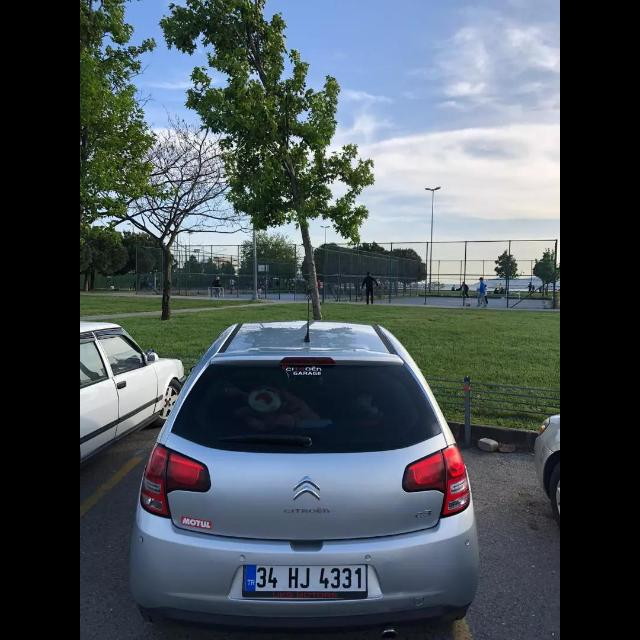Plaka: (244, 564, 366, 592)
